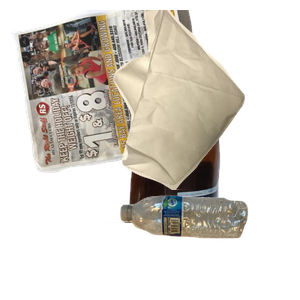glass: (29, 120, 242, 300)
paper: (10, 10, 210, 175)
plastic: (118, 193, 300, 300)
trash: (111, 10, 300, 190)
